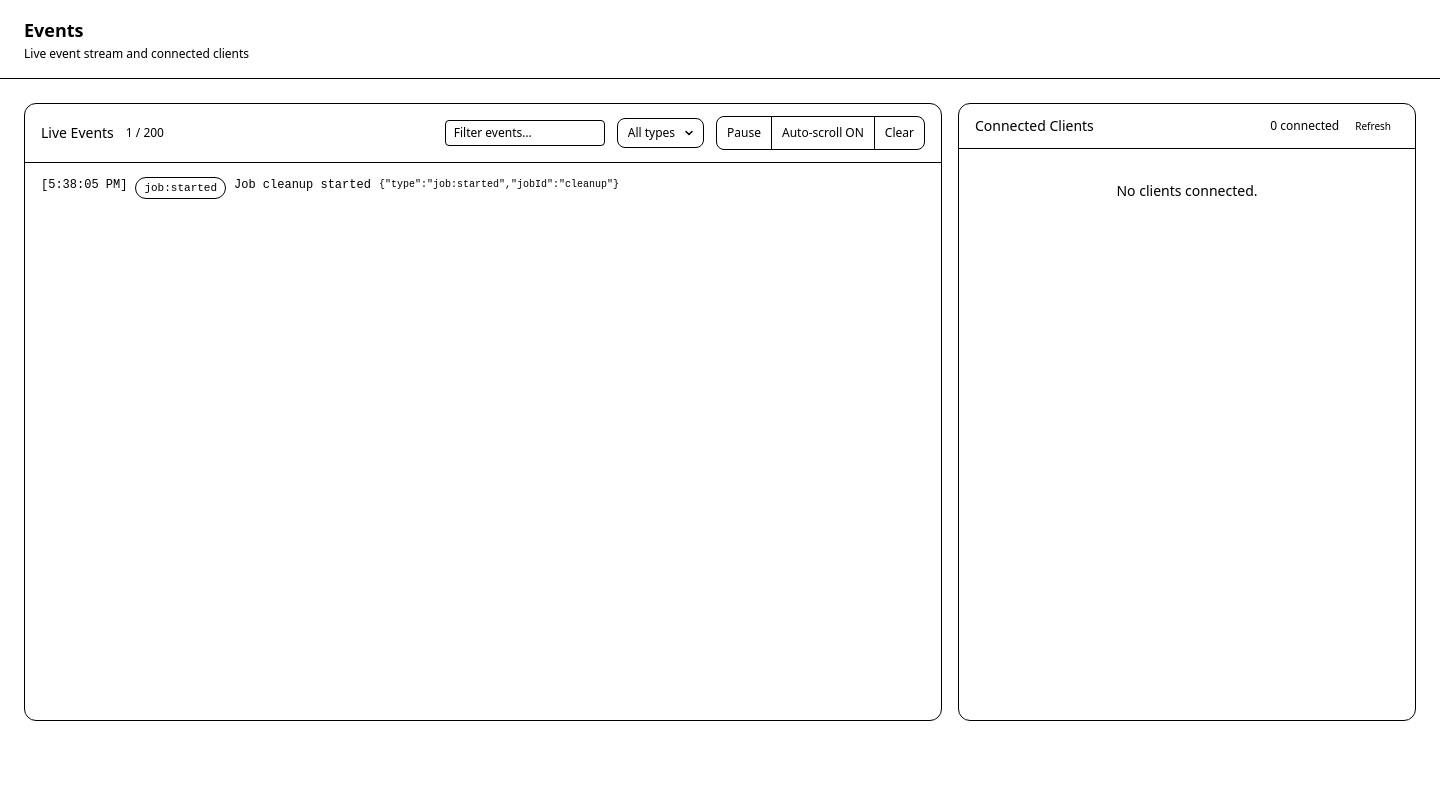
Test case: EventsPage live events › shows "Waiting for events…" again when the list is cleared
What coordinates should you click on to do the following:
click the button "Clear"
I would click on:
 (899, 133)
Its box is [874,117,924,149].
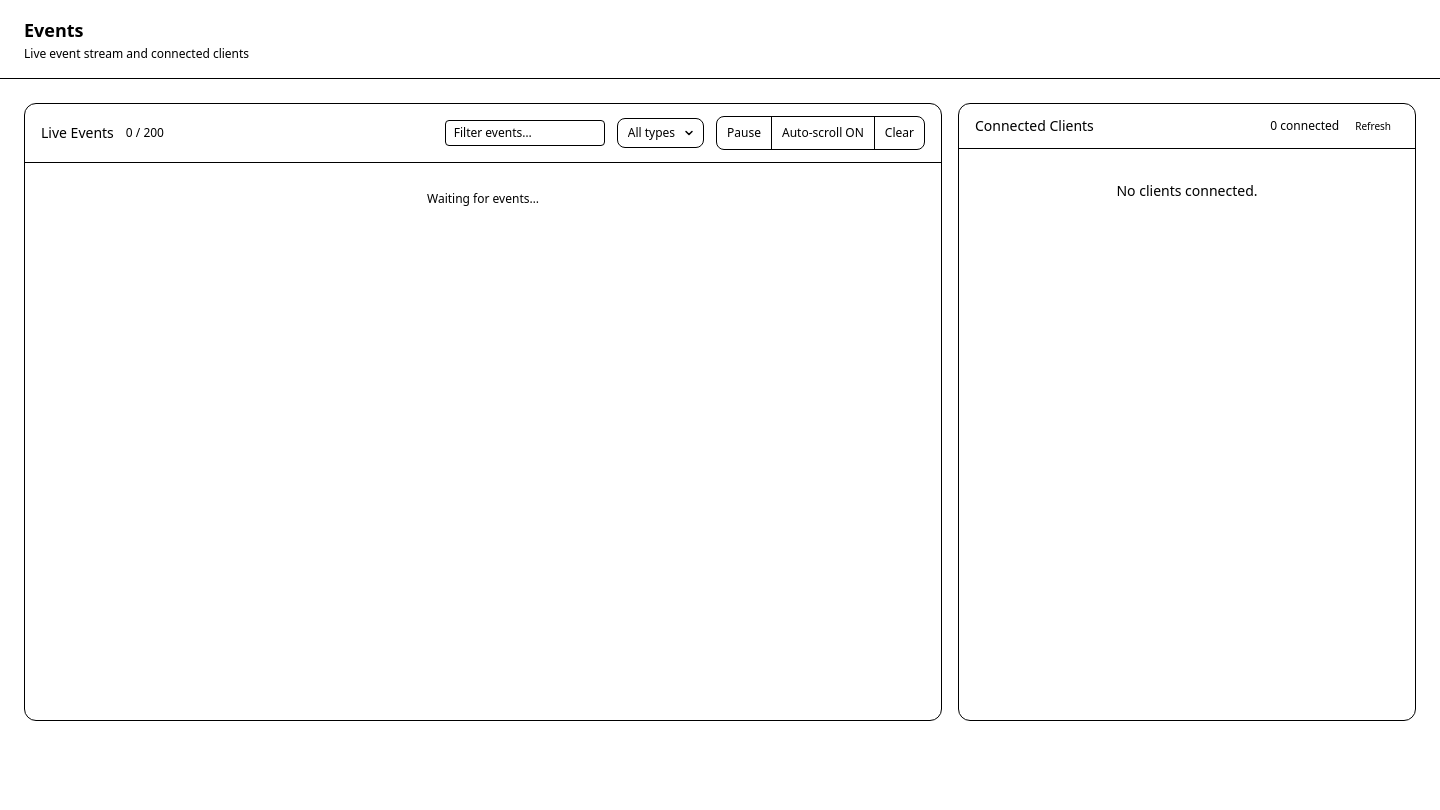
Expected: the text "Waiting for events…" is shown, [427,190,539,207]
Expected: the text "Job cleanup started" is gone
